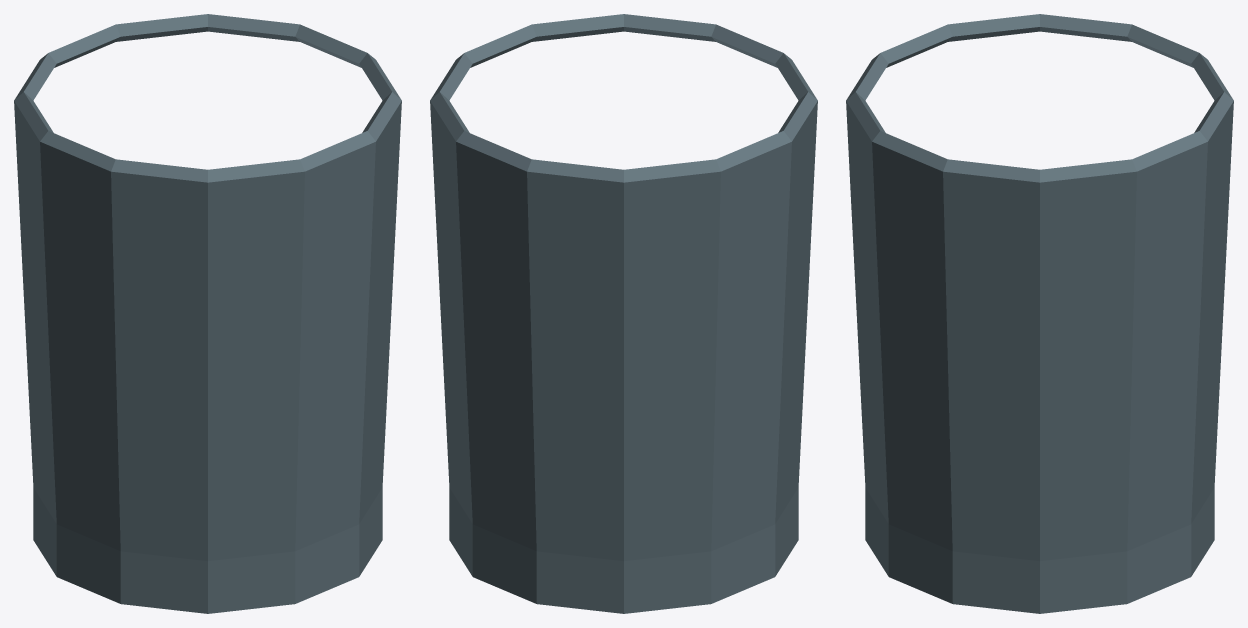
The model's file is pahar_rom.glb.
3 renders of one model, left to right at view 1: azimuth 30°, elevation 25°; view 2: azimuth 150°, elevation 25°; view 3: azimuth 270°, elevation 25°, orthographic.
Parts seen in each view (by area): view 1: Geam; view 2: Geam; view 3: Geam.
Boxes of the visible parts, x1=… form: Geam: x1=14, y1=14, x2=401, y2=613; Geam: x1=430, y1=14, x2=817, y2=613; Geam: x1=846, y1=14, x2=1233, y2=613.
Size of the model in its own units: 0.08 by 0.102 by 0.08.
